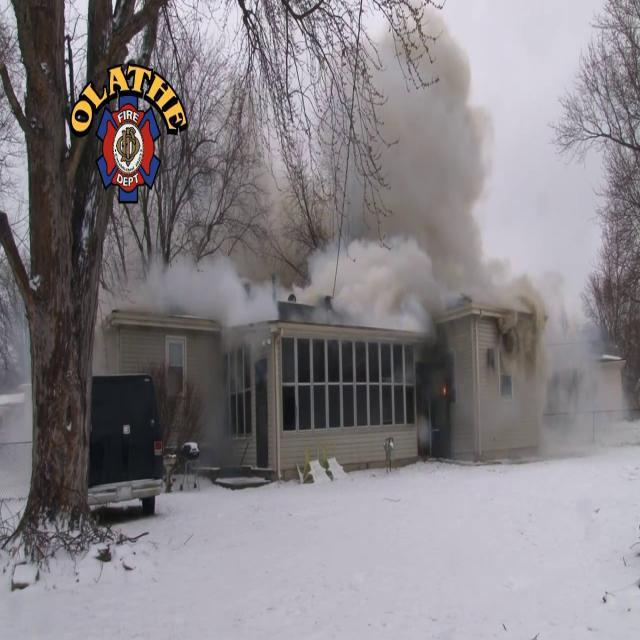Smoke: (165, 1, 512, 342)
